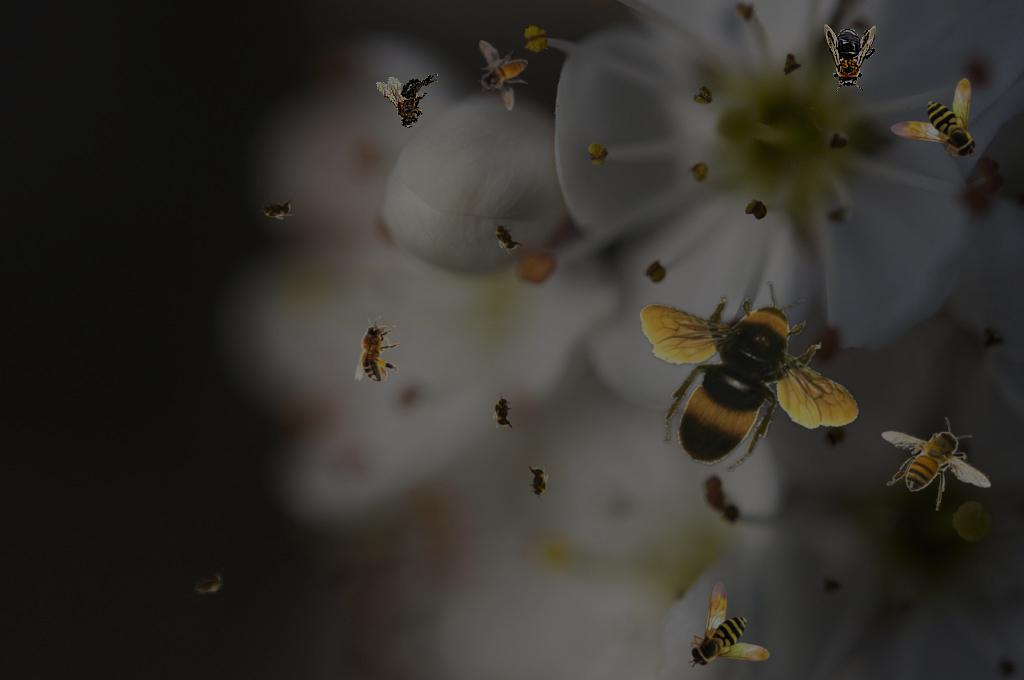Bee: (640, 281, 860, 472), (881, 417, 992, 511), (688, 580, 770, 668), (890, 78, 978, 160), (375, 69, 446, 133), (478, 40, 528, 111), (824, 24, 876, 92), (355, 316, 400, 382), (485, 214, 527, 260), (185, 567, 231, 601), (527, 462, 549, 502), (256, 198, 296, 220), (492, 392, 514, 432)
